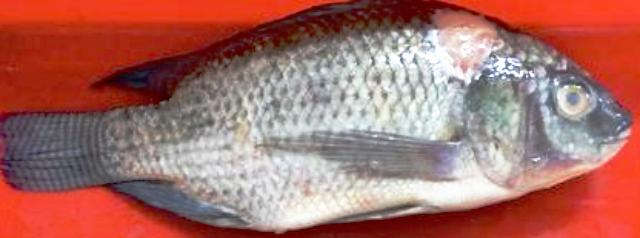Tilapia Lake Virus -TiLV-: (3, 0, 629, 231), (3, 0, 629, 231)
